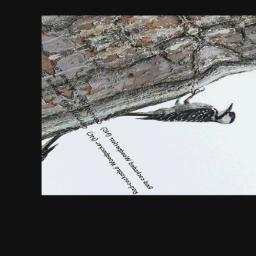Woodpecker: (109, 81, 246, 154)
